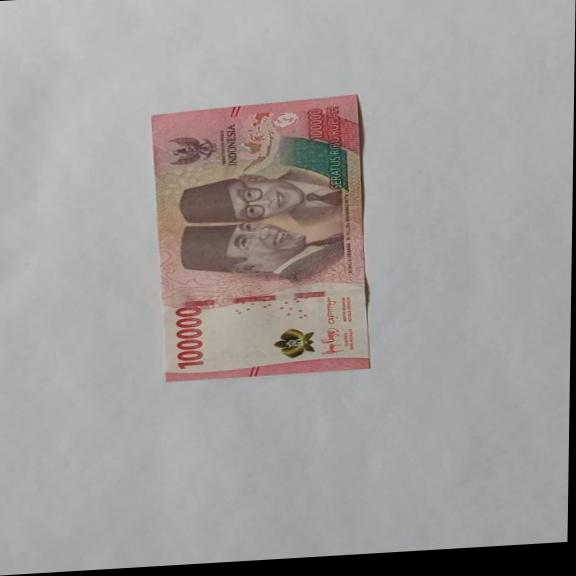Kertas: (146, 92, 374, 383), (172, 304, 206, 370)
